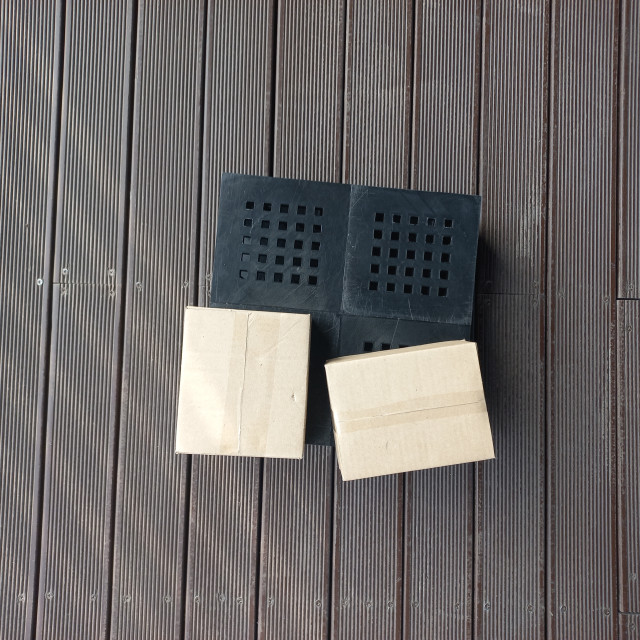box: (143, 159, 316, 301), (327, 179, 467, 337)
